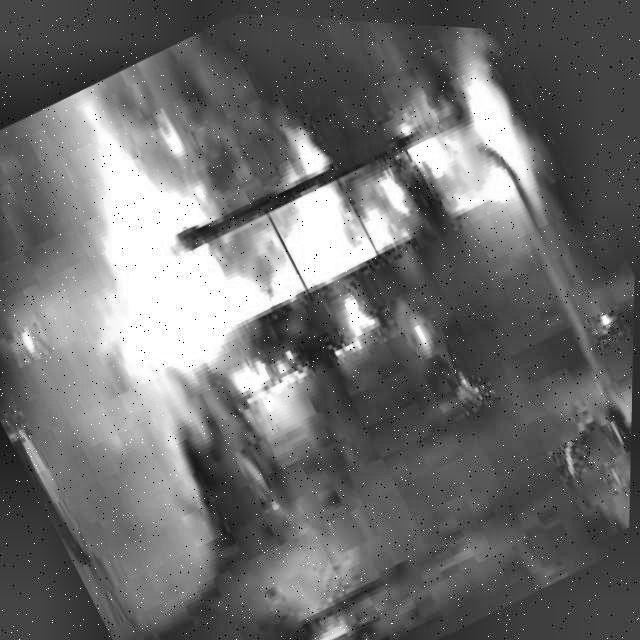Fire: (29, 2, 571, 435)
Smoke: (0, 106, 283, 639), (57, 3, 532, 281)
